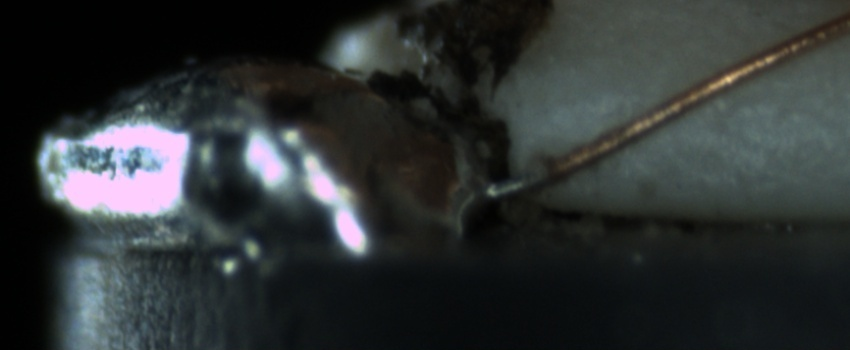DL: (560, 71, 830, 134)
TS: (481, 169, 544, 200)
